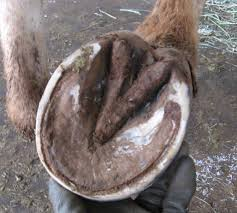horsesole: (35, 42, 192, 202)
